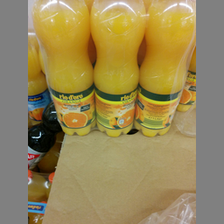juice: (32, 1, 94, 135), (90, 1, 148, 136), (138, 2, 194, 138)
